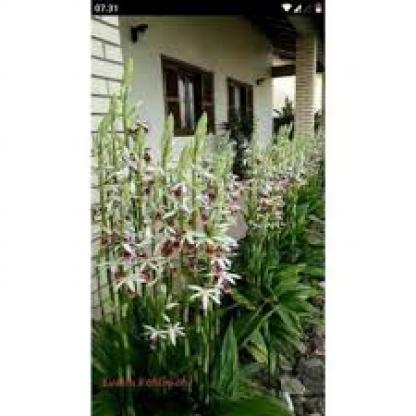ANGGREK: (101, 77, 312, 332)
